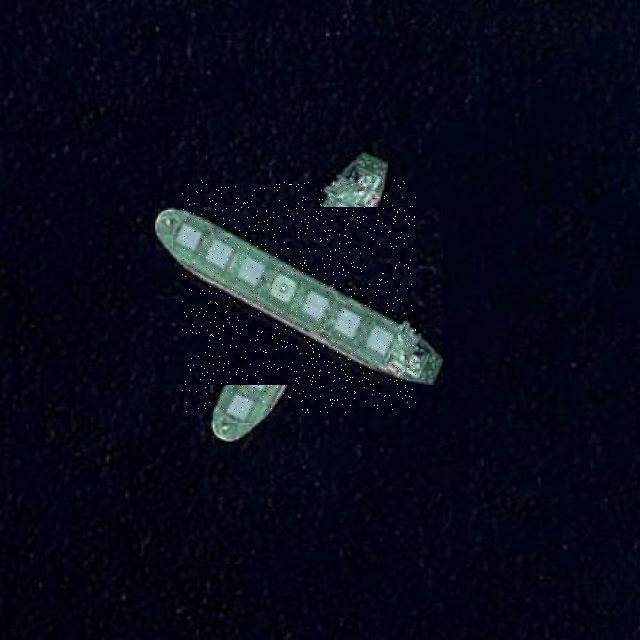boat: (182, 180, 416, 413)
